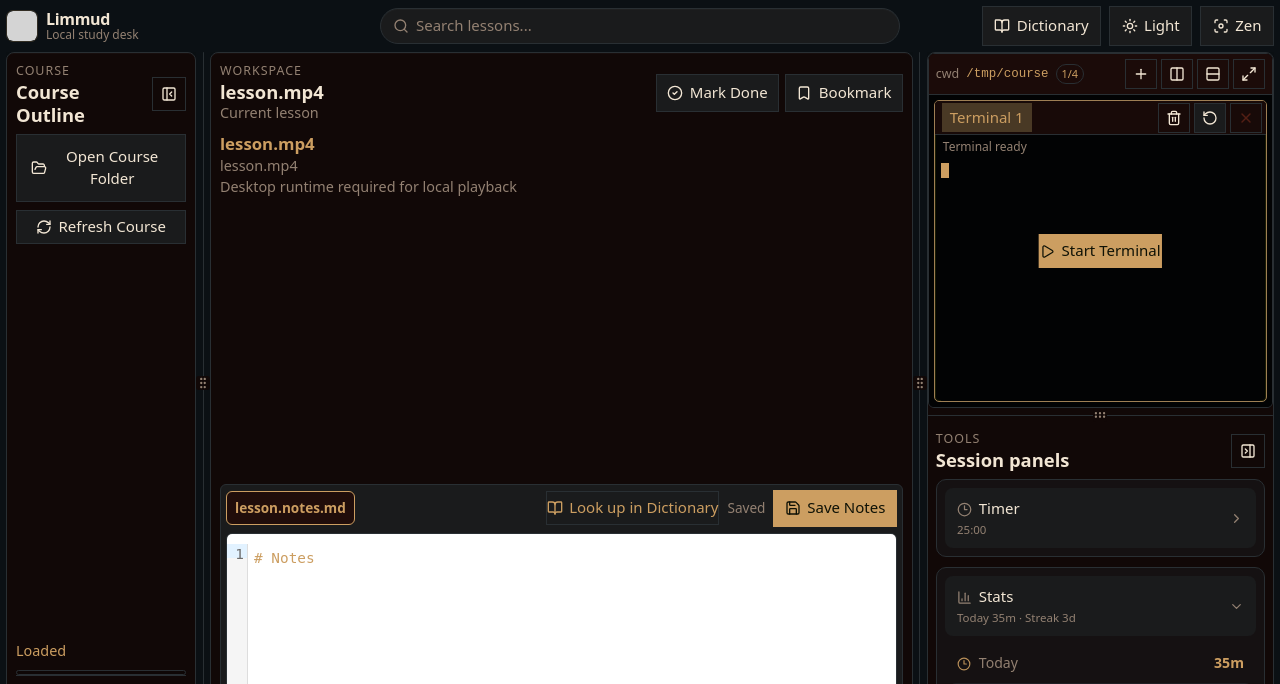
collapses the side panels into rails
Click the button named "Collapse course sidebar". click: (169, 94)
box: [152,77,186,111]
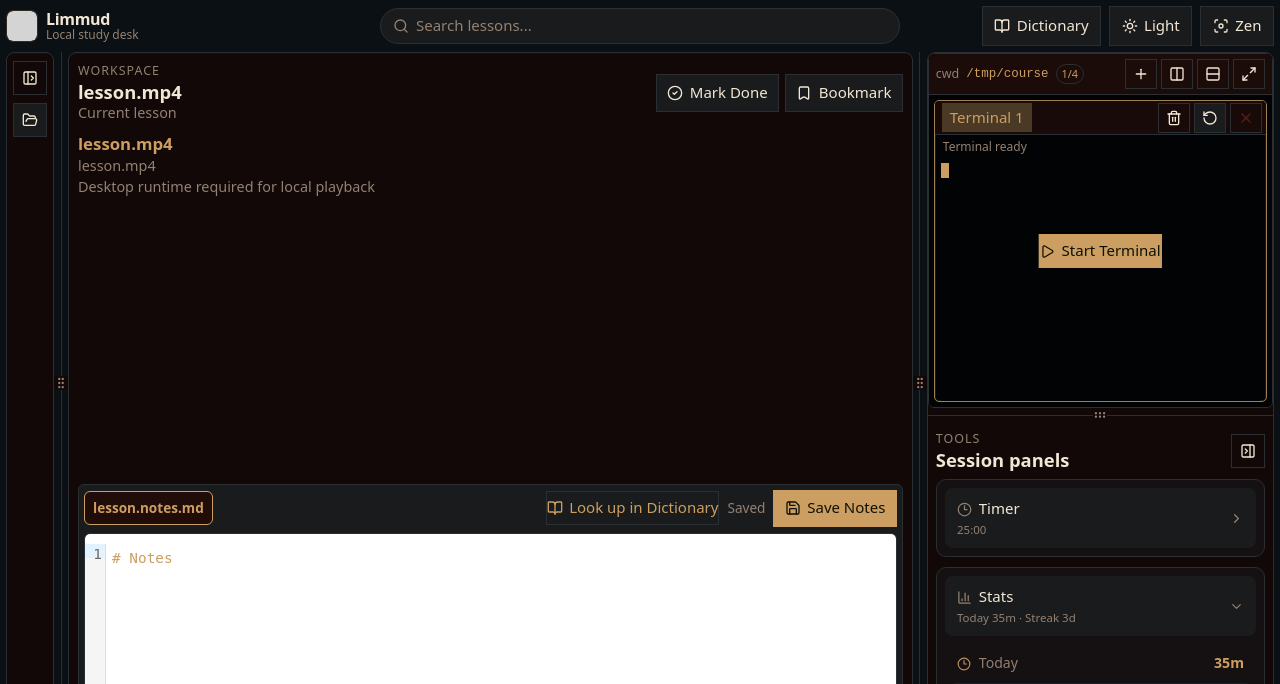
Click the button named "Collapse terminal and tools panel". click: (1248, 451)
box: [1231,434,1265,468]
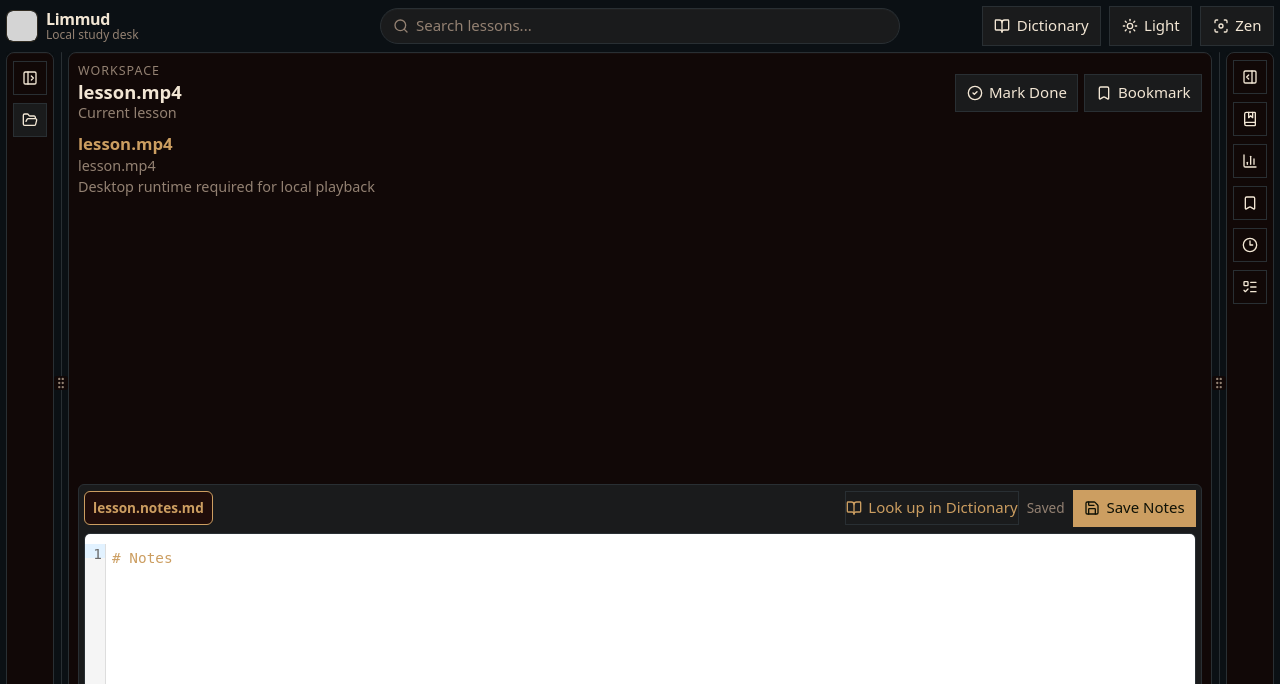
Check: the heading "Course Outline" is not shown
Check: the button named "Expand course sidebar" is shown, box [13,61,47,95]
Check: the button named "Expand terminal and tools panel" is shown, box [1233,60,1267,94]
Click the button named "Timer". click: (1250, 245)
box: [1233,228,1267,262]
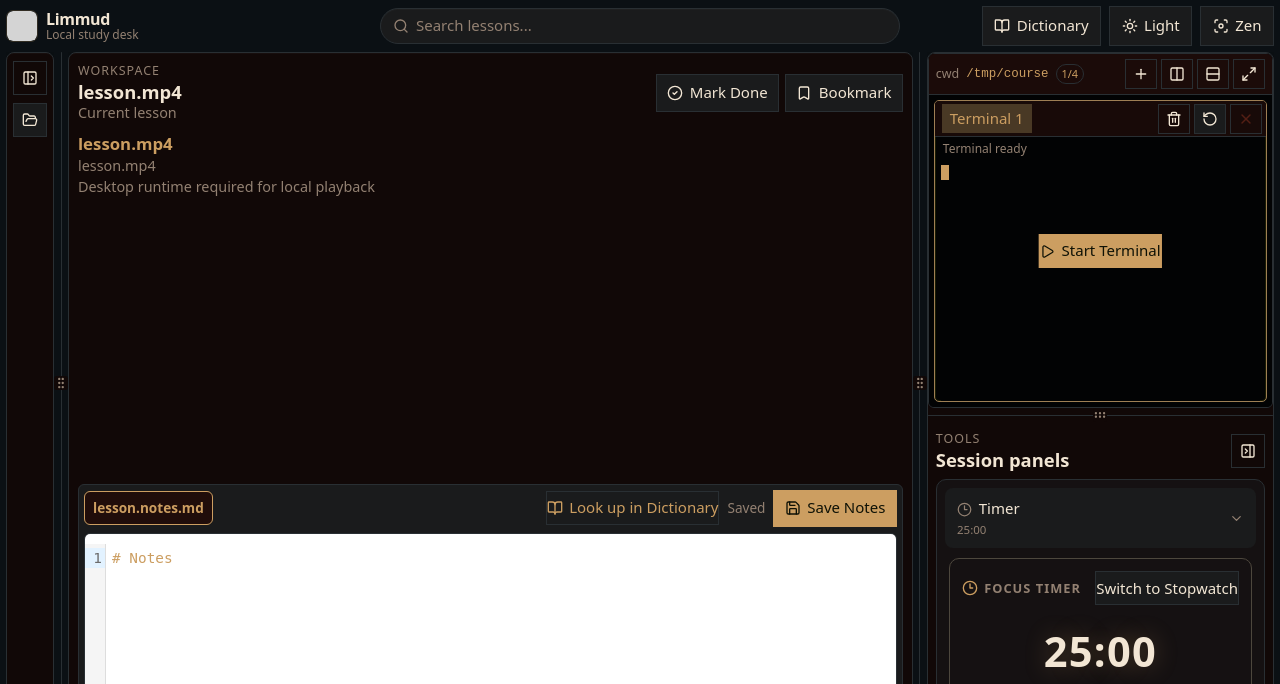
Check: the button "Timer 25:00" is expanded, box [945,488,1256,548]
Check: the button named "Collapse terminal and tools panel" is shown, box [1231,434,1265,468]
